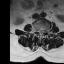CCS_stenosis: (40, 28, 42, 36)
LFS_stenosis: (43, 28, 45, 34)
LLS_normal: (42, 28, 43, 35)
RFS_normal: (36, 27, 38, 33)
RLS_normal: (38, 28, 40, 35)
